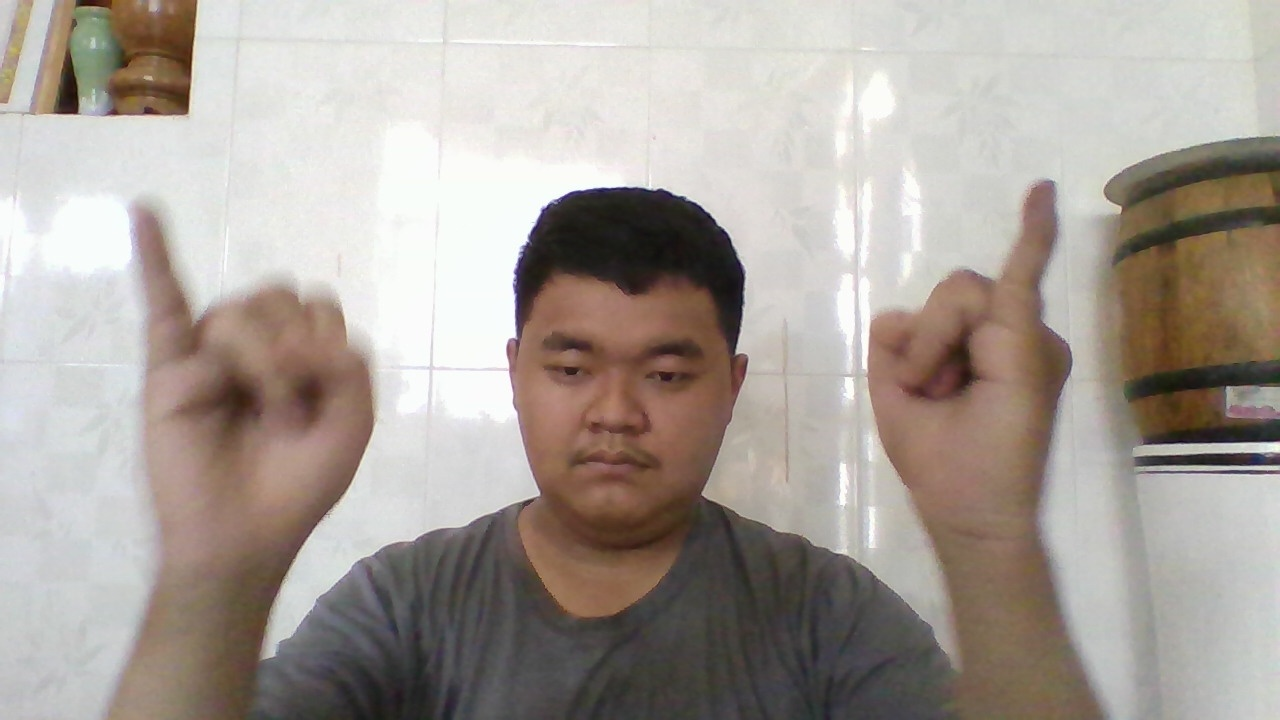I: (129, 203, 372, 571), (875, 177, 1059, 522)
